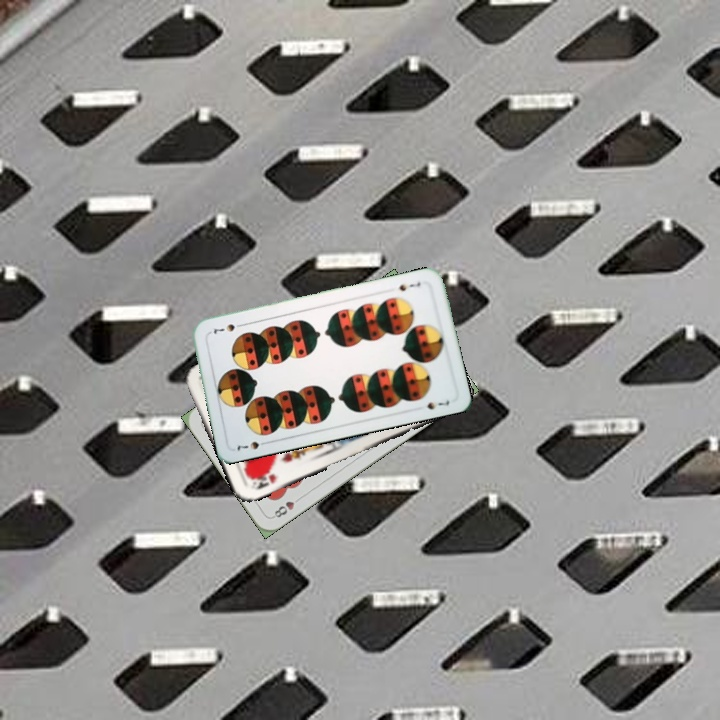H8: (268, 493, 304, 521)
HK: (247, 468, 279, 493)
S7: (233, 437, 271, 454), (395, 278, 423, 294)
